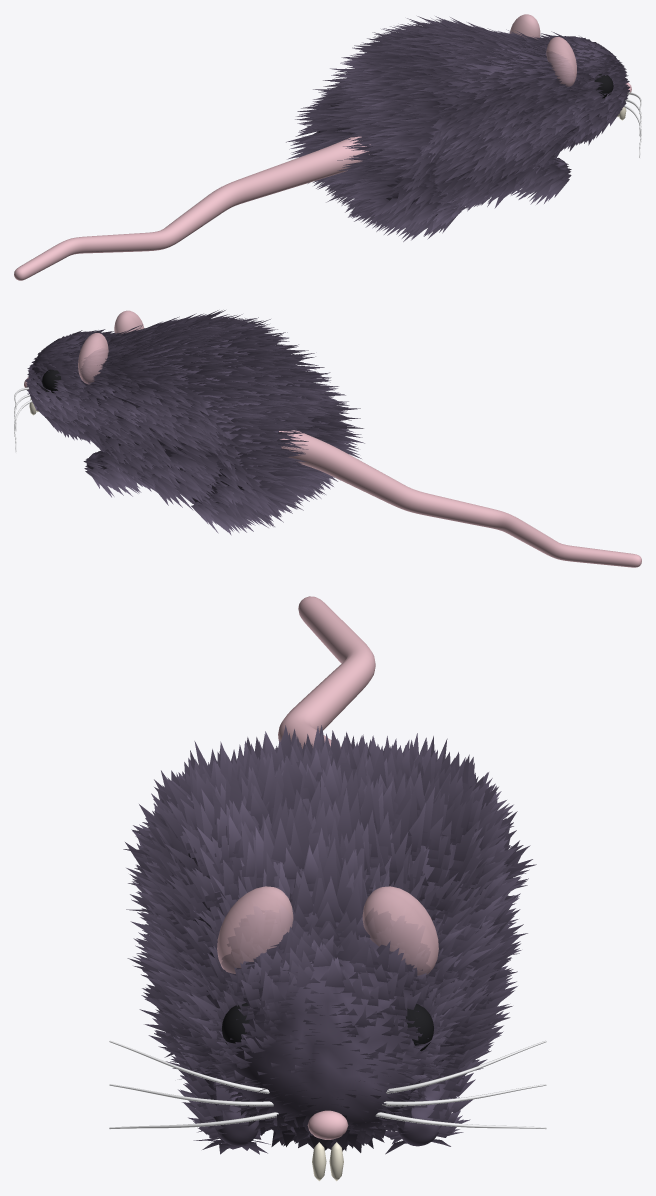
File: rat.glb
3 views of the same model, one above another, from view 1: azimuth 30°, elevation 25°; view 2: azimuth 150°, elevation 25°; view 3: azimuth 270°, elevation 25° (orthographic). The views are drawn at different scales.
Parts seen in each view (by area): view 1: FurStrands, Tail, Body, EarR, Head, EarL; view 2: FurStrands, Tail, Body, Head, EarL, EarR; view 3: FurStrands, Head, Tail, EarL, Body, EarR, Nose.
Part boxes in pixels (x1,y1,x2,y2): FurStrands: [286, 16, 630, 241]; Tail: [14, 136, 370, 280]; Body: [318, 32, 580, 215]; EarR: [546, 36, 576, 86]; Head: [566, 38, 624, 126]; EarL: [509, 14, 540, 39]; FurStrands: [25, 310, 364, 535]; Tail: [279, 430, 641, 567]; Body: [74, 324, 329, 503]; Head: [31, 335, 87, 417]; EarL: [78, 333, 108, 384]; EarR: [114, 310, 143, 334]; FurStrands: [123, 725, 536, 1154]; Head: [228, 959, 428, 1136]; Tail: [278, 596, 375, 748]; EarL: [362, 886, 438, 975]; Body: [184, 835, 476, 1146]; EarR: [217, 886, 293, 973]; Nose: [307, 1110, 348, 1139].
Size of the model in its own units: 0.466 by 0.1277 by 0.1443.
